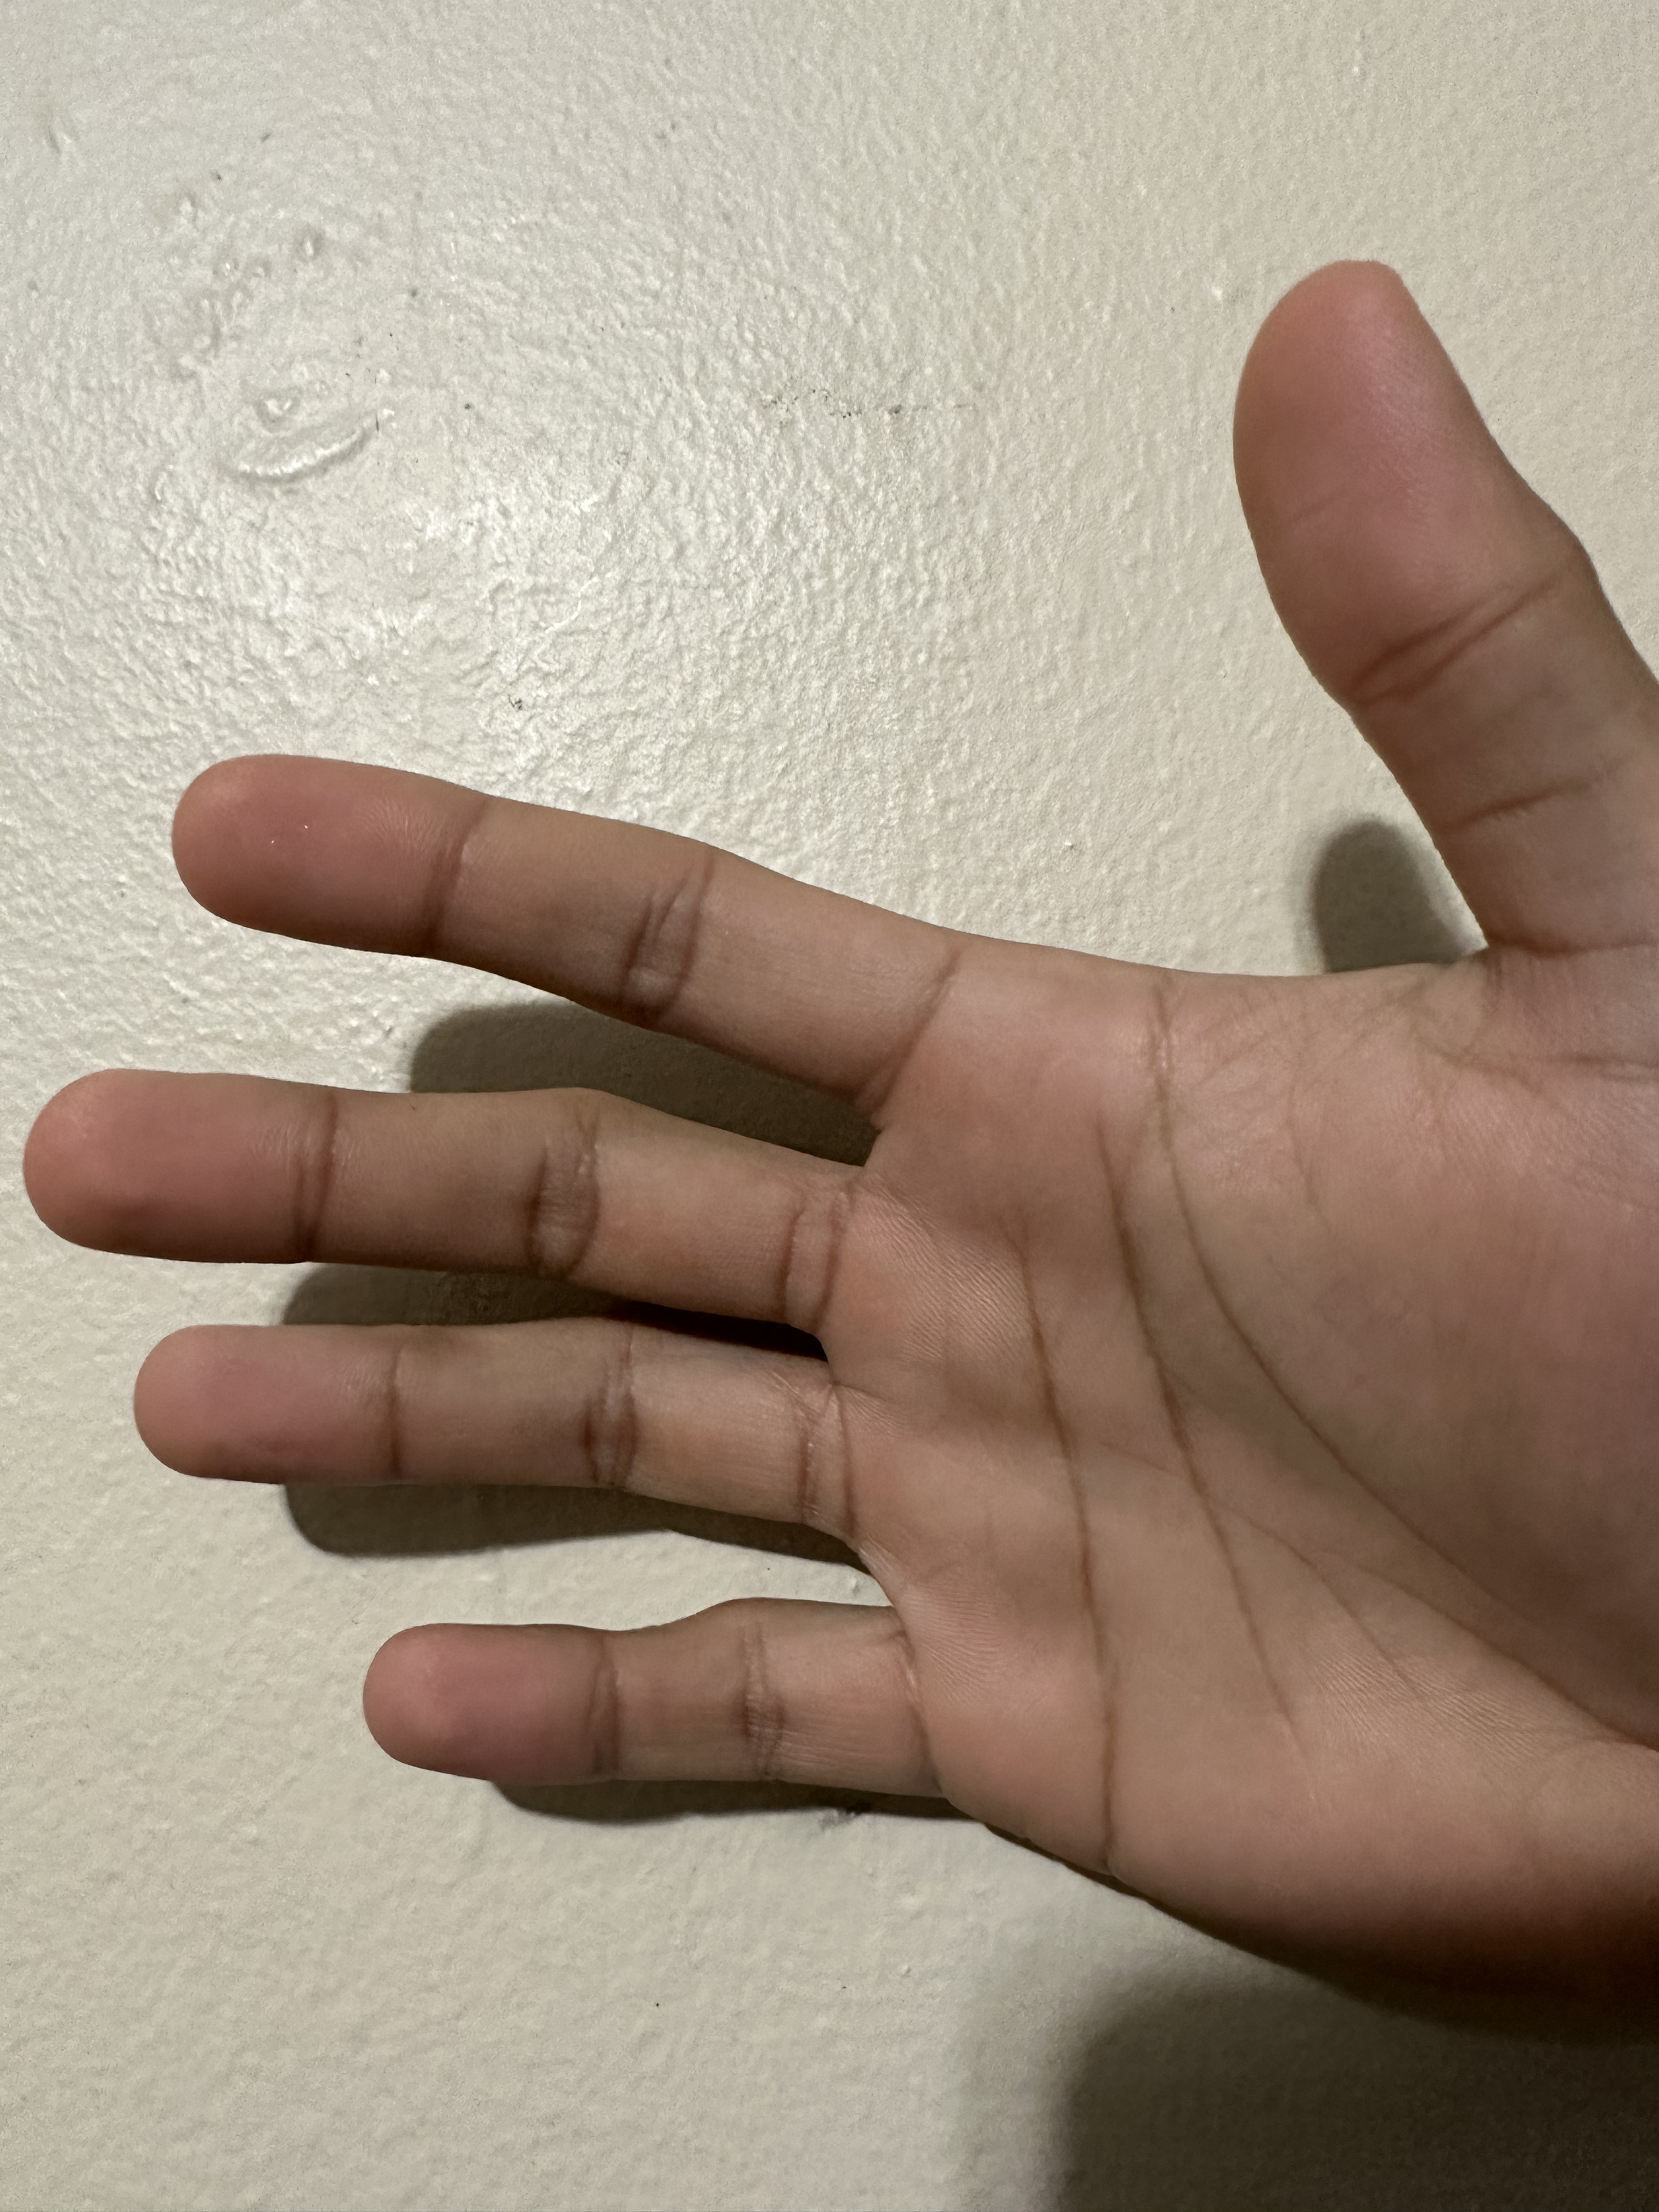finger: (1199, 212, 1551, 662), (122, 714, 481, 972), (7, 1043, 336, 1284), (85, 1306, 410, 1531), (308, 1599, 620, 1822)
